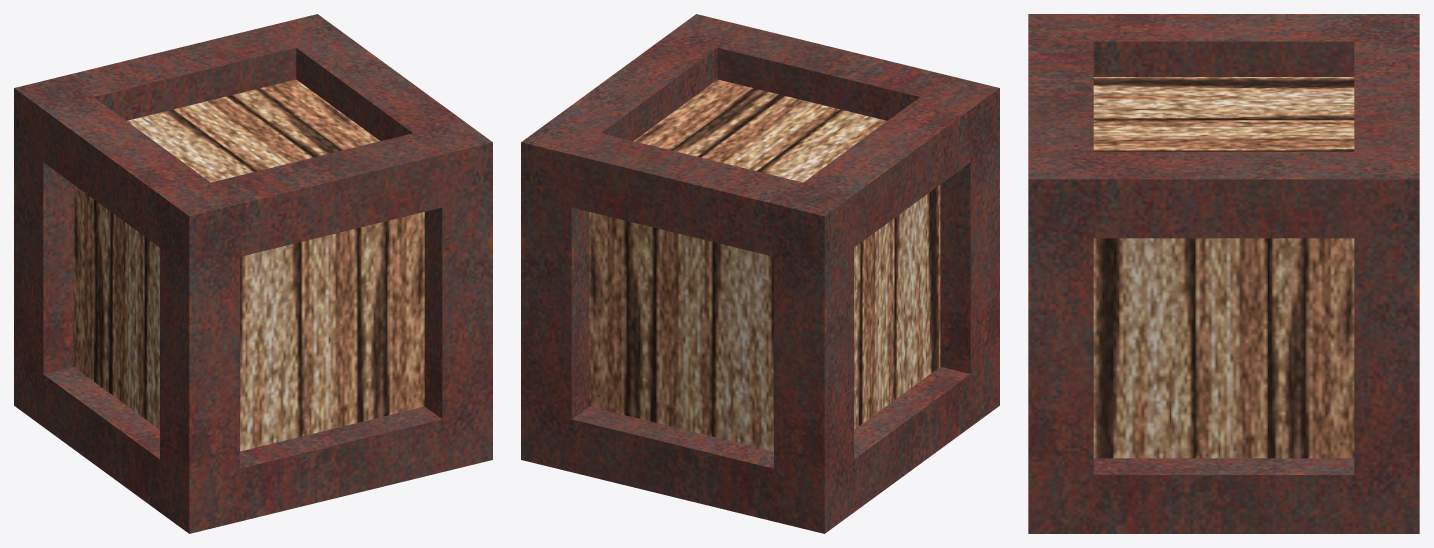
Rendered from Caixote.glb.
The picture shows the model from 3 angles, left to right: view 1: azimuth 30°, elevation 25°; view 2: azimuth 150°, elevation 25°; view 3: azimuth 270°, elevation 25°; orthographic projection. The views are drawn at different scales.
Parts seen in each view (by area): view 1: Cube; view 2: Cube; view 3: Cube.
Boxes of the visible parts, x1,y1,x2,y2 form: Cube: [14, 14, 492, 533]; Cube: [521, 14, 999, 533]; Cube: [1028, 14, 1419, 533].
Bounding box in the file's own units: 1 × 1 × 1.
2 materials, 2 textured.
